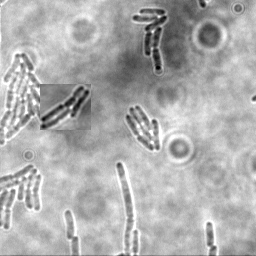Dividing: (114, 161, 133, 255), (204, 221, 215, 248)
Microcolony: (1, 51, 56, 147), (1, 162, 44, 231), (130, 8, 167, 72), (40, 84, 91, 130), (124, 106, 160, 153), (63, 208, 74, 240)
